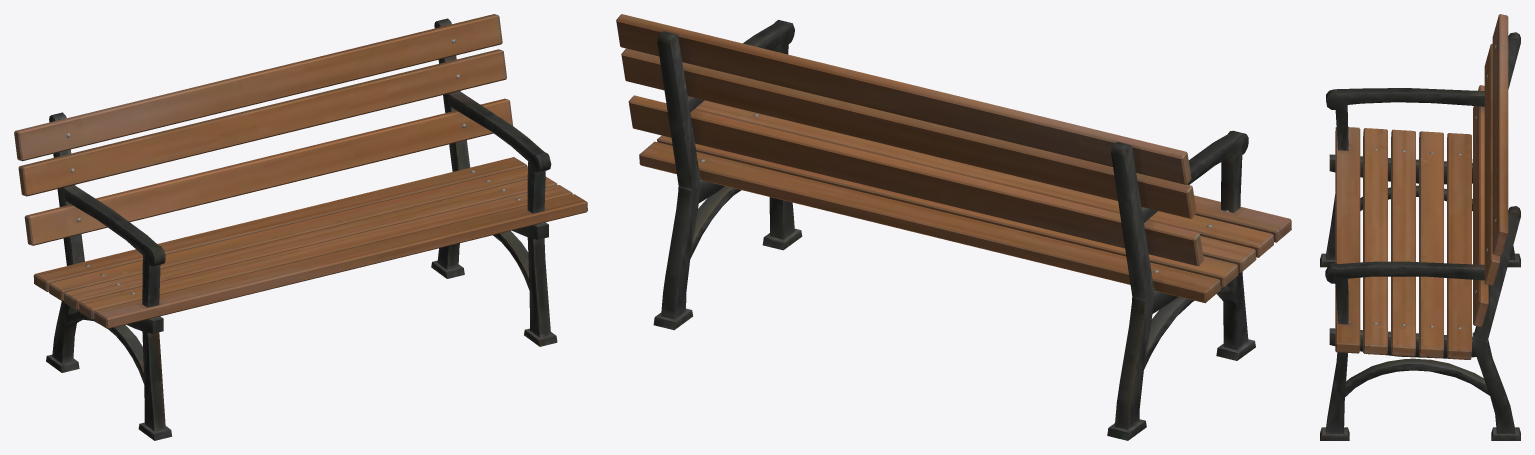
The model's file is bench.glb.
3 renders of one model, left to right at view 1: azimuth 30°, elevation 25°; view 2: azimuth 150°, elevation 25°; view 3: azimuth 270°, elevation 25°, orthographic. The views are drawn at different scales.
Visible parts, largest first — view 1: park-bench_body; view 2: park-bench_body; view 3: park-bench_body.
Boxes of the visible parts, bbox=[...] form: park-bench_body: bbox=[14, 14, 587, 440]; park-bench_body: bbox=[616, 14, 1291, 440]; park-bench_body: bbox=[1320, 14, 1520, 440].
Size of the model in its own units: 1.8 by 0.8832 by 0.7041.
1 material, 1 textured.
